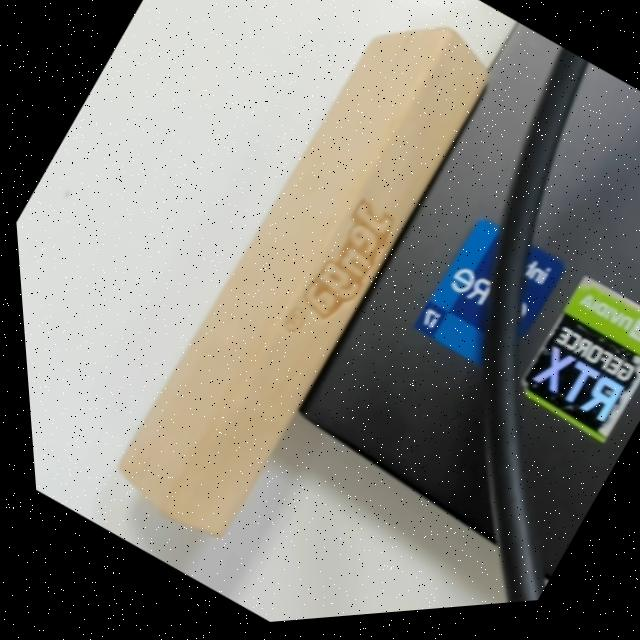Jenga: (67, 0, 530, 566)
